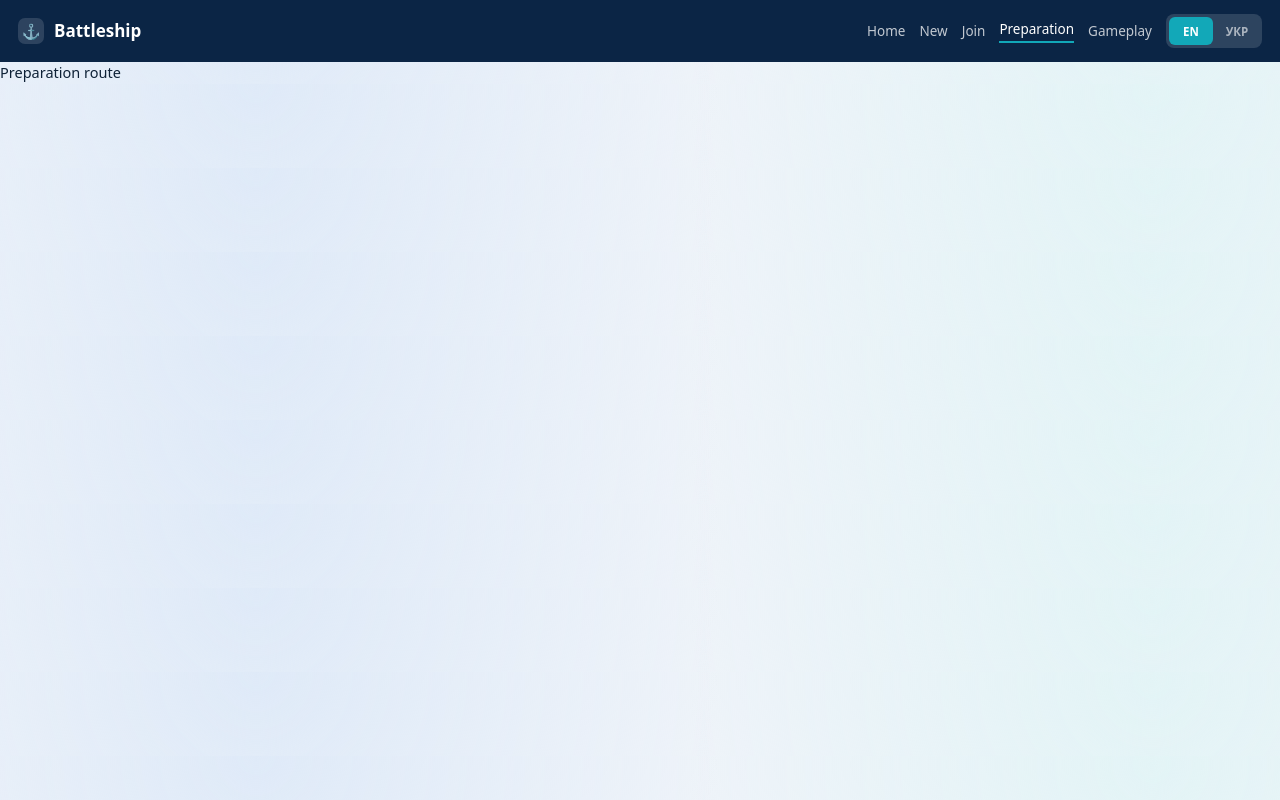
it: AppBar › Confirm clears storage and navigates to the intended destination
This screenshot has width=1280, height=800.
What coordinates should you click on to do the following:
click the link "Home"
I would click on:
 (886, 31)
Its box is [867,21,906,41].
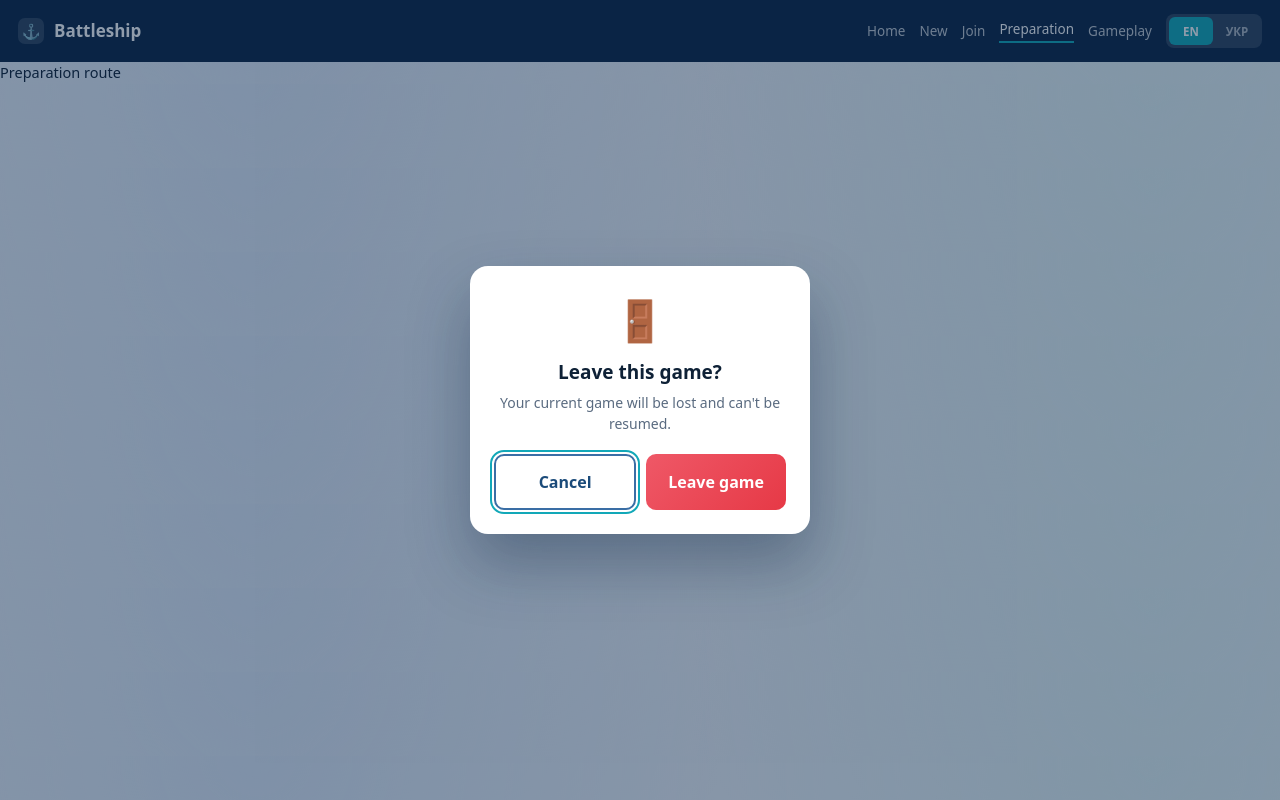
What coordinates should you click on to do the following:
click the button "Leave game"
I would click on:
 (716, 482)
Its box is [646,454,786,510].
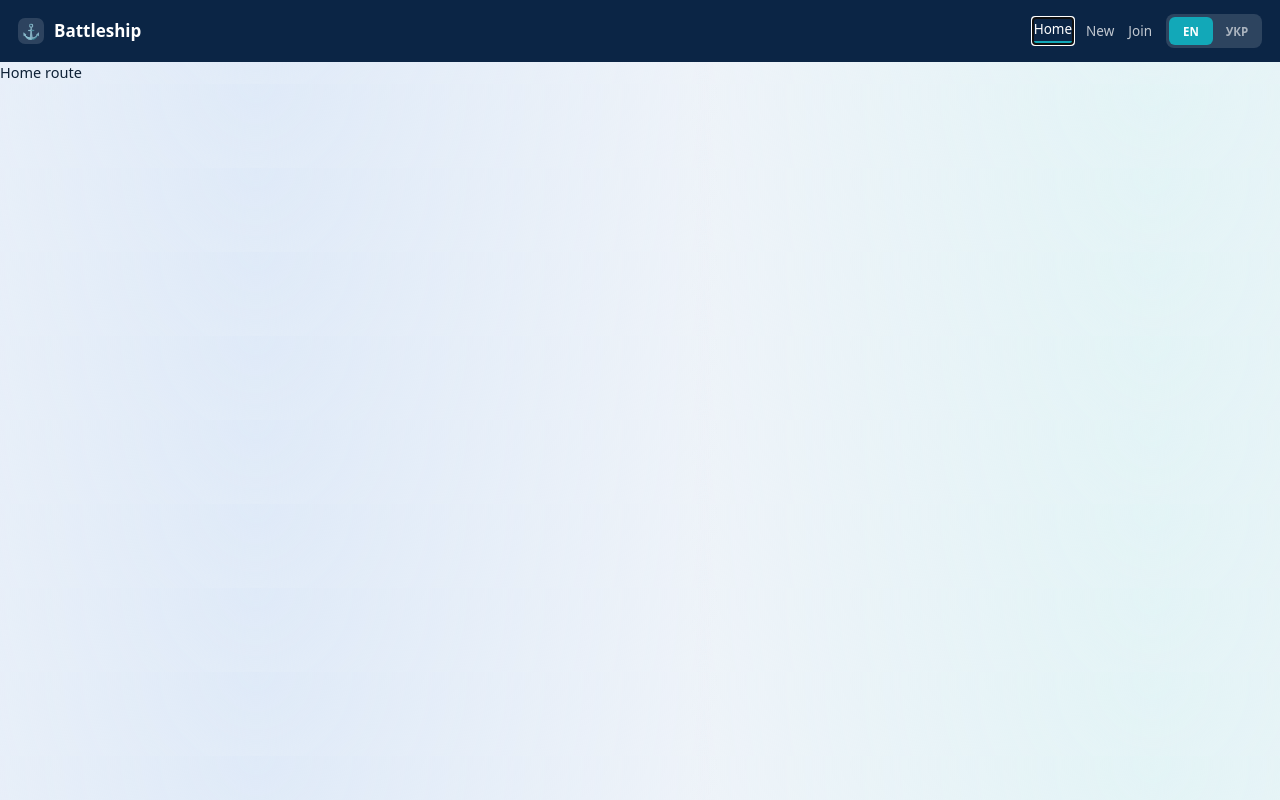
Expected: the dialog is gone
Expected: the text "Home route" is shown, [0,62,82,82]
